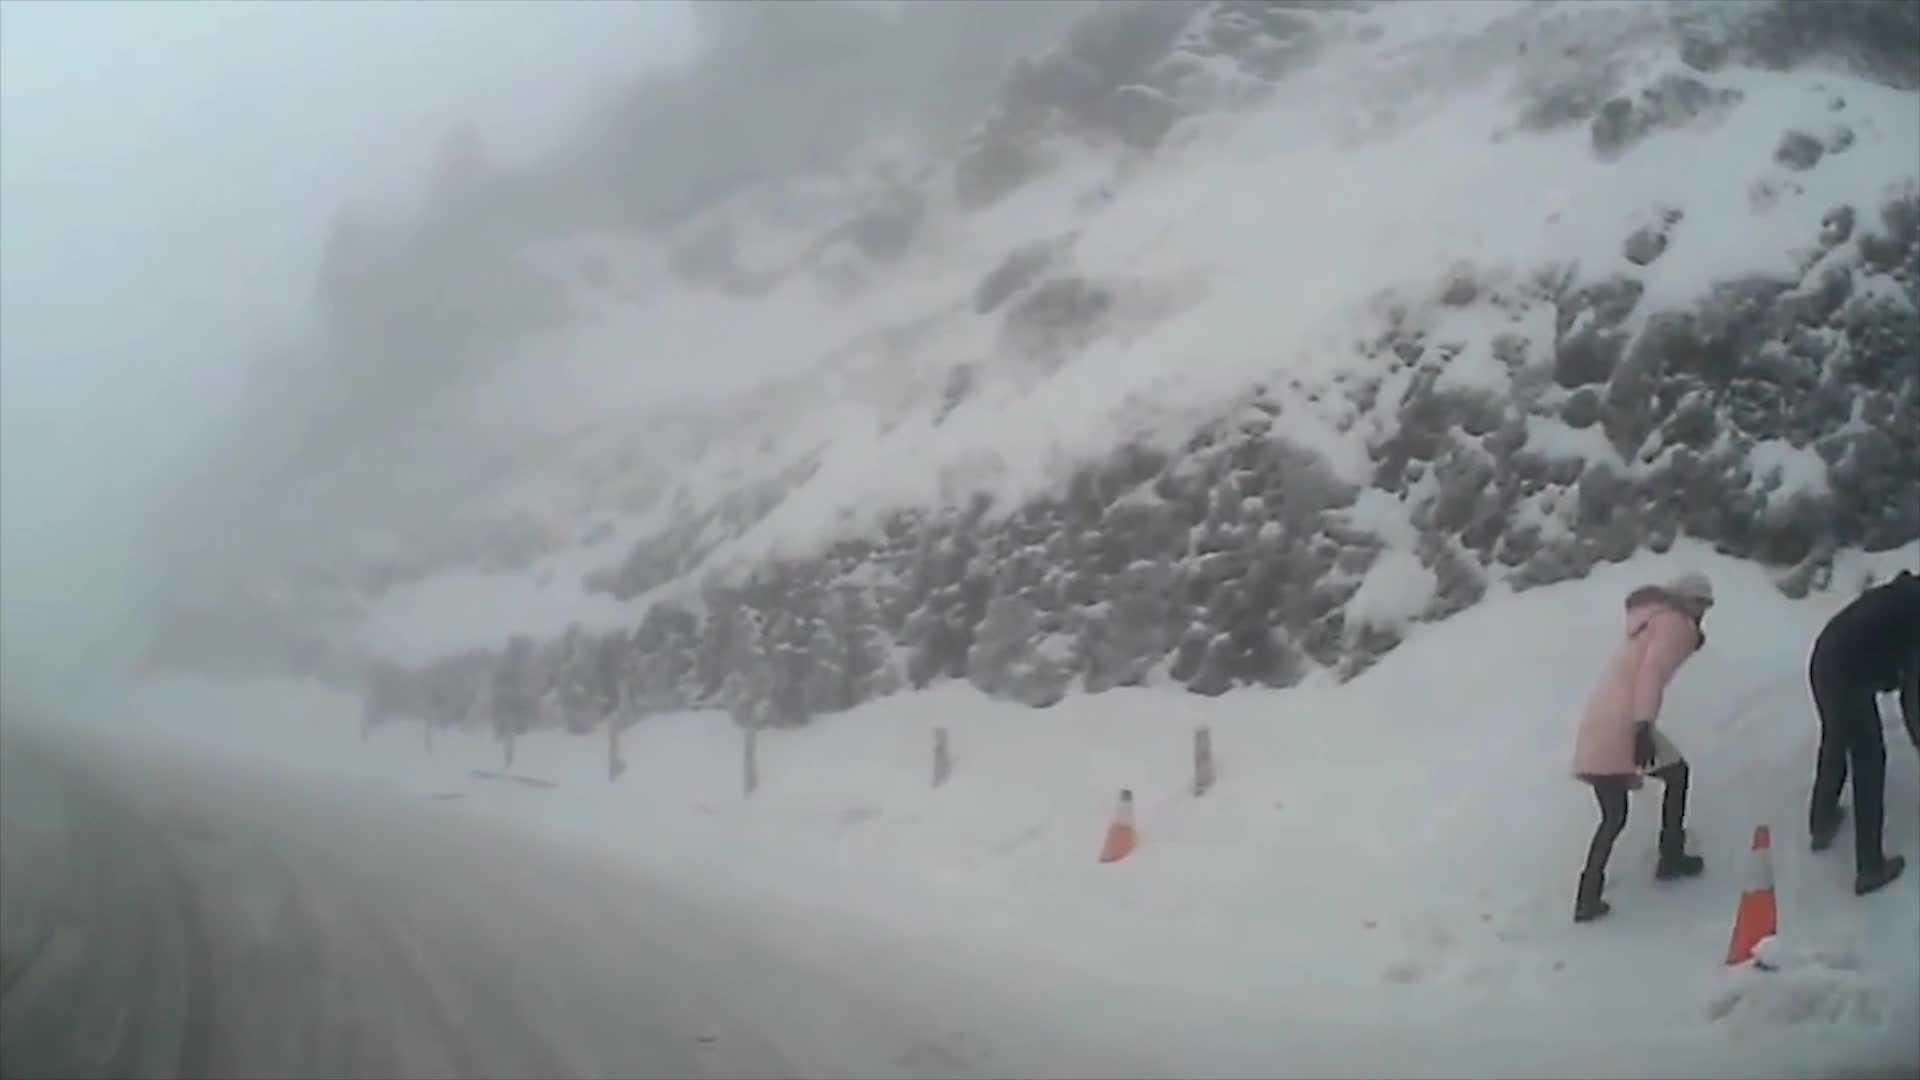pedestrian: (1574, 576, 1728, 926), (1807, 577, 1920, 899)
